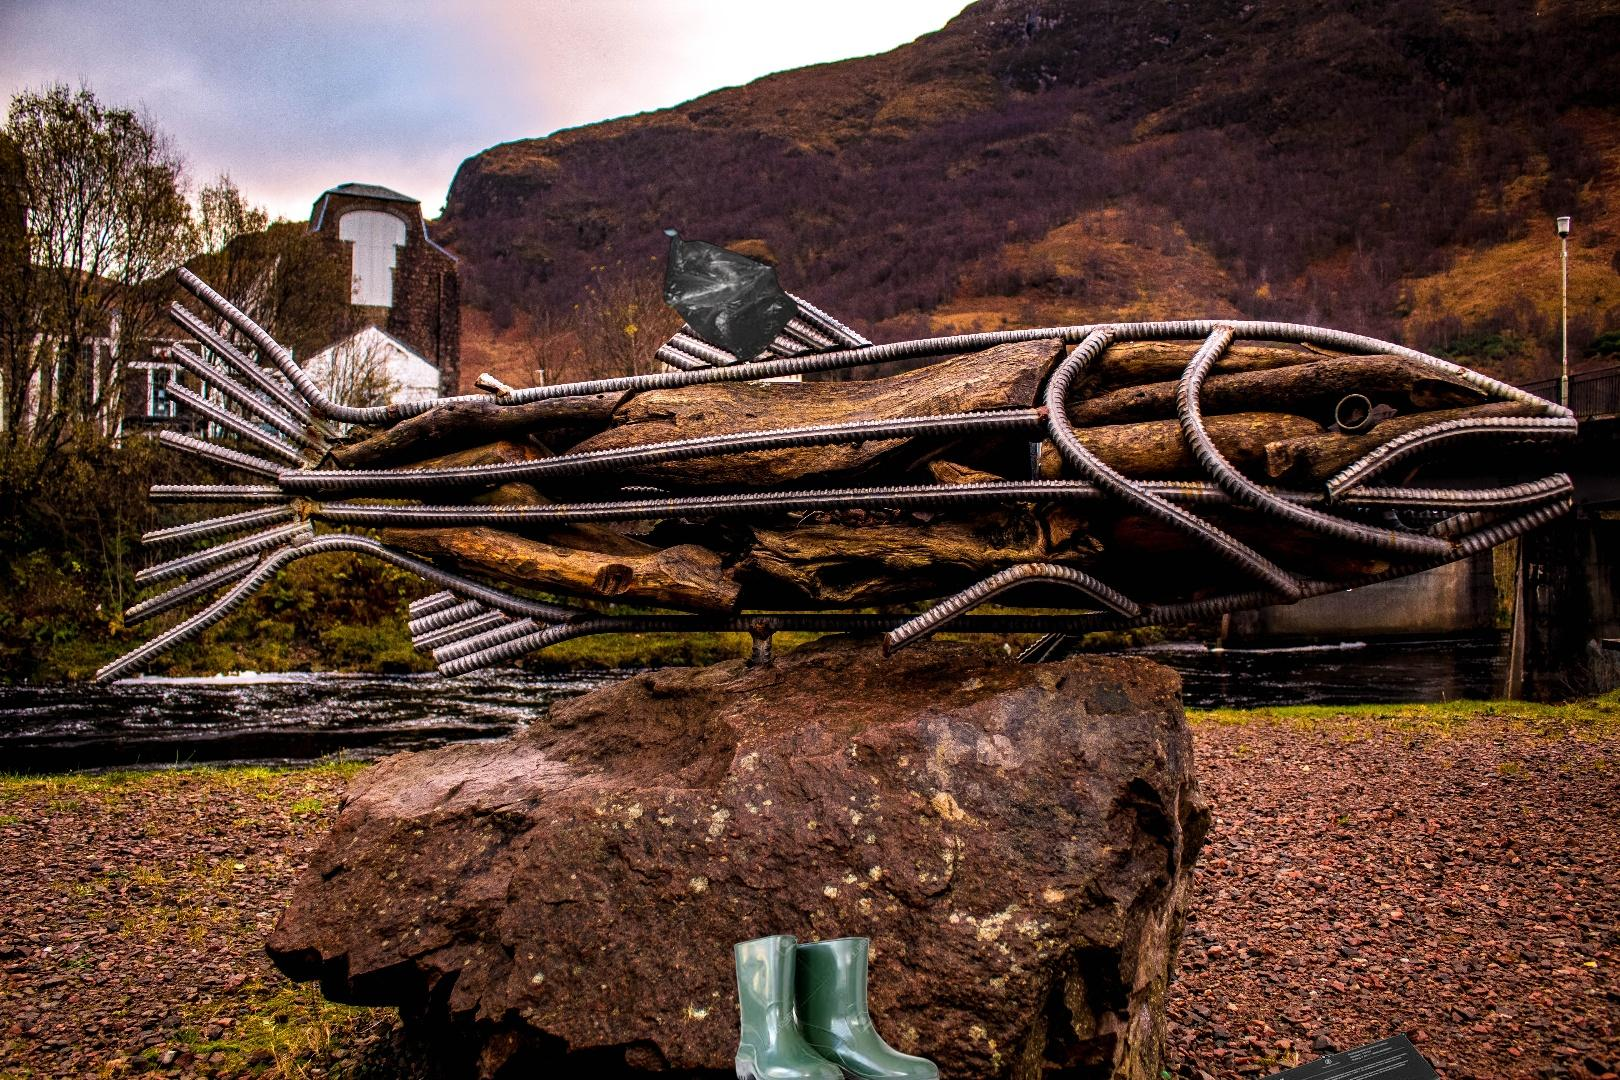battery: (1223, 1028, 1443, 1080)
plastic-bag: (659, 222, 800, 365)
shoes: (730, 932, 943, 1080)
